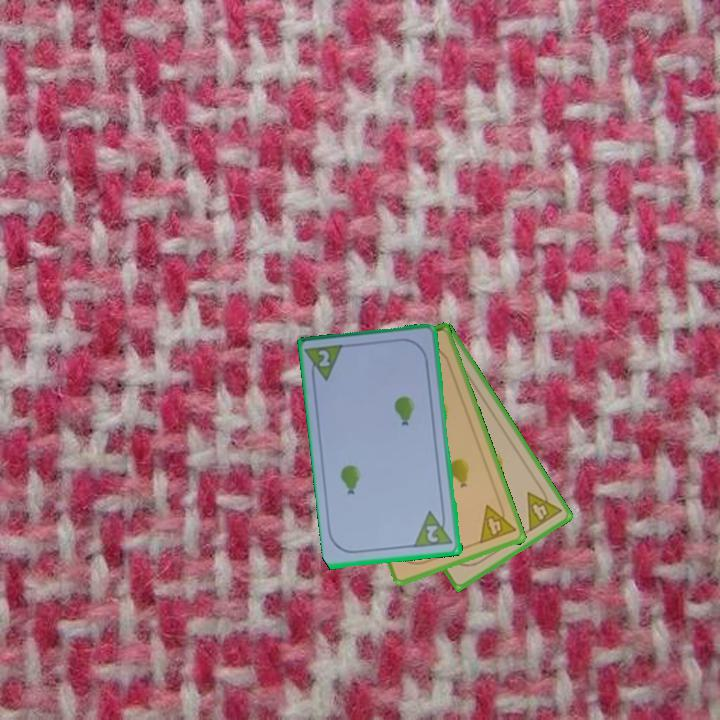2p: (303, 341, 348, 386), (412, 507, 456, 551)
4p: (523, 481, 565, 535), (476, 498, 519, 547)
